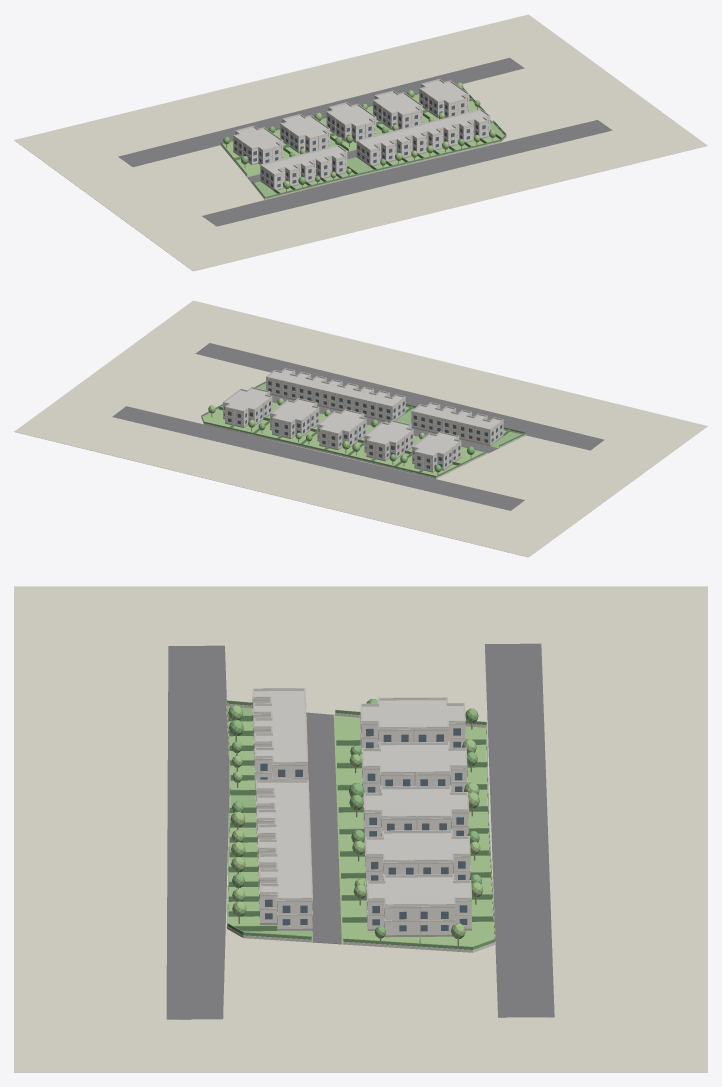
3 views of the same model, one above another, from view 1: azimuth 30°, elevation 25°; view 2: azimuth 150°, elevation 25°; view 3: azimuth 270°, elevation 25° (orthographic). The views are drawn at different scales.
Parts seen in each view (by area): view 1: zemin__zemin, yol__asfalt, villa__duvar, villa__cakil, villa__cam, peyzaj__cim, villa__duvar2, villa__harpusta, peyzaj__cit, agac__yaprak2, peyzaj__bahce_duv, agac__yaprak (+1 smaller); view 2: zemin__zemin, yol__asfalt, villa__duvar, villa__cakil, villa__cam, peyzaj__cim, villa__duvar2, villa__harpusta, peyzaj__cit, peyzaj__bahce_duv, villa__subasman, agac__yaprak2; view 3: zemin__zemin, yol__asfalt, villa__cakil, villa__duvar, peyzaj__cim, peyzaj__cit, villa__harpusta, villa__cam, villa__duvar2, agac__yaprak2, agac__yaprak, peyzaj__bahce_duv.
Part boxes in pixels (left/top/right/bottom): zemin__zemin: left=14, top=14, right=707, bottom=271; yol__asfalt: left=118, top=57, right=612, bottom=226; villa__duvar: left=233, top=79, right=490, bottom=189; villa__cakil: left=236, top=80, right=487, bottom=173; villa__cam: left=234, top=93, right=488, bottom=187; peyzaj__cim: left=223, top=95, right=506, bottom=192; villa__duvar2: left=233, top=85, right=490, bottom=183; villa__harpusta: left=233, top=79, right=489, bottom=174; peyzaj__cit: left=220, top=88, right=506, bottom=198; agac__yaprak2: left=261, top=82, right=495, bottom=188; peyzaj__bahce_duv: left=220, top=94, right=506, bottom=199; agac__yaprak: left=223, top=100, right=480, bottom=184; zemin__zemin: left=14, top=300, right=707, bottom=557; yol__asfalt: left=112, top=343, right=604, bottom=510; villa__duvar: left=223, top=368, right=503, bottom=471; villa__cakil: left=225, top=370, right=500, bottom=455; villa__cam: left=224, top=381, right=502, bottom=468; peyzaj__cim: left=203, top=402, right=506, bottom=475; villa__duvar2: left=222, top=372, right=503, bottom=469; villa__harpusta: left=223, top=368, right=503, bottom=455; peyzaj__cit: left=201, top=381, right=526, bottom=477; peyzaj__bahce_duv: left=201, top=383, right=526, bottom=478; villa__subasman: left=223, top=393, right=503, bottom=472; agac__yaprak2: left=208, top=372, right=424, bottom=462; zemin__zemin: left=14, top=586, right=707, bottom=1072; yol__asfalt: left=166, top=643, right=554, bottom=1019; villa__cakil: left=254, top=691, right=470, bottom=903; villa__duvar: left=252, top=688, right=471, bottom=935; peyzaj__cim: left=228, top=715, right=494, bottom=952; peyzaj__cit: left=226, top=700, right=495, bottom=949; villa__harpusta: left=252, top=688, right=471, bottom=904; villa__cam: left=252, top=699, right=467, bottom=931; villa__duvar2: left=252, top=694, right=472, bottom=931; agac__yaprak2: left=228, top=705, right=483, bottom=938; agac__yaprak: left=229, top=699, right=481, bottom=938; peyzaj__bahce_duv: left=226, top=703, right=495, bottom=952.
Bounding box in the file's own units: 244 × 7.75 × 147.
